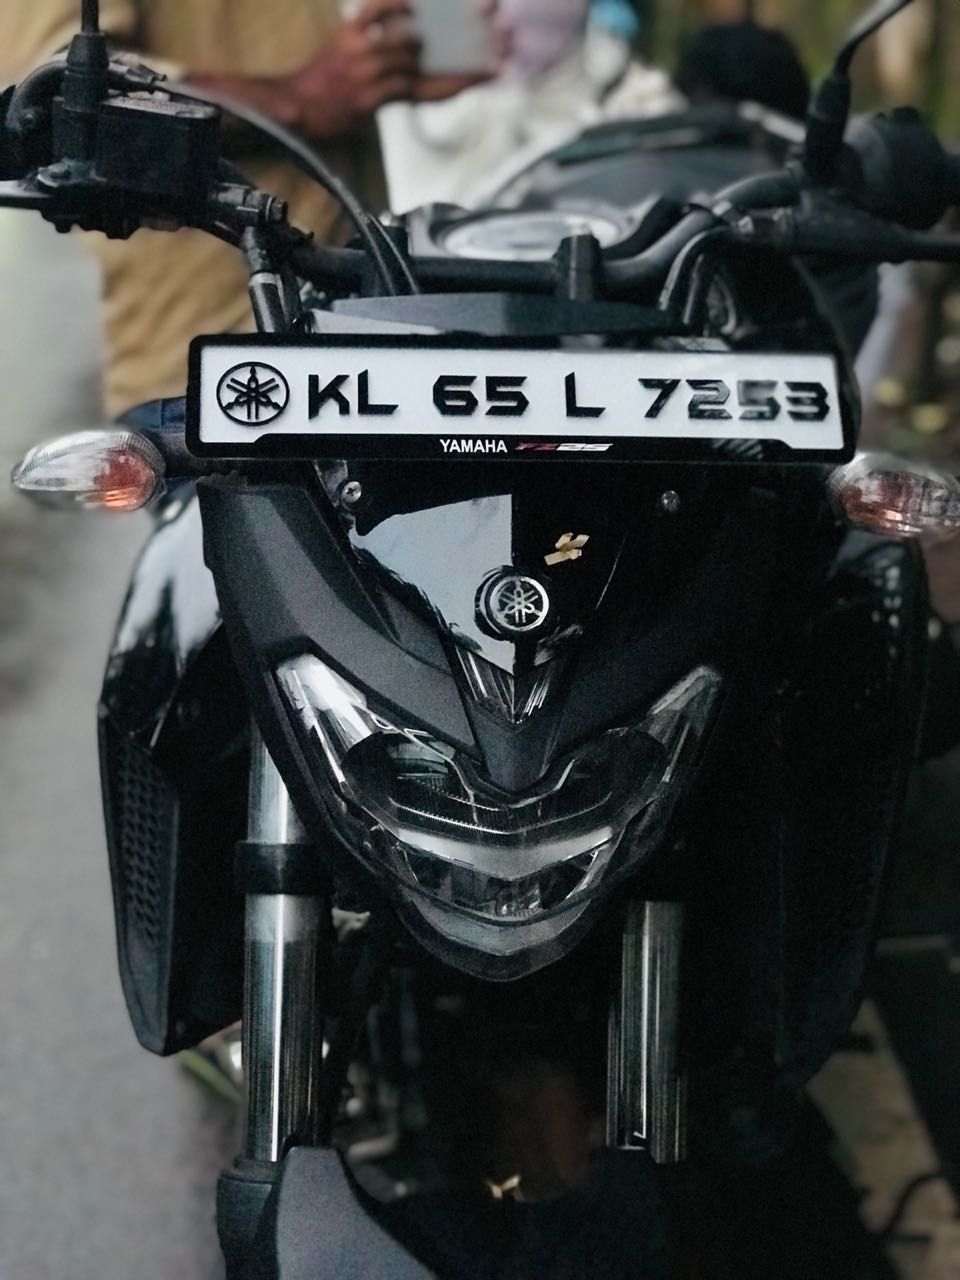plate: (176, 314, 876, 486)
